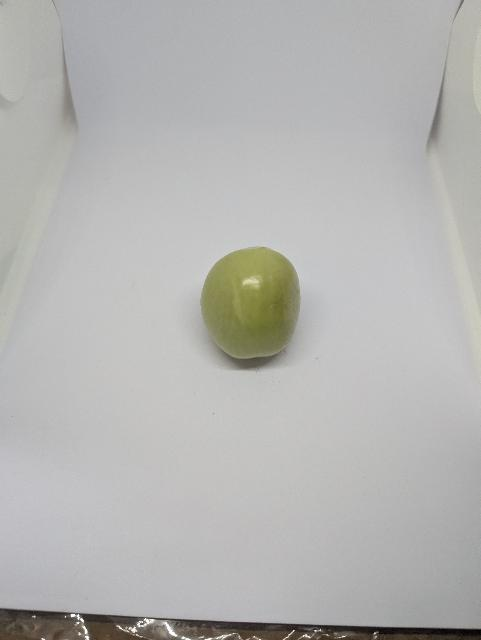green: (199, 247, 303, 362)
